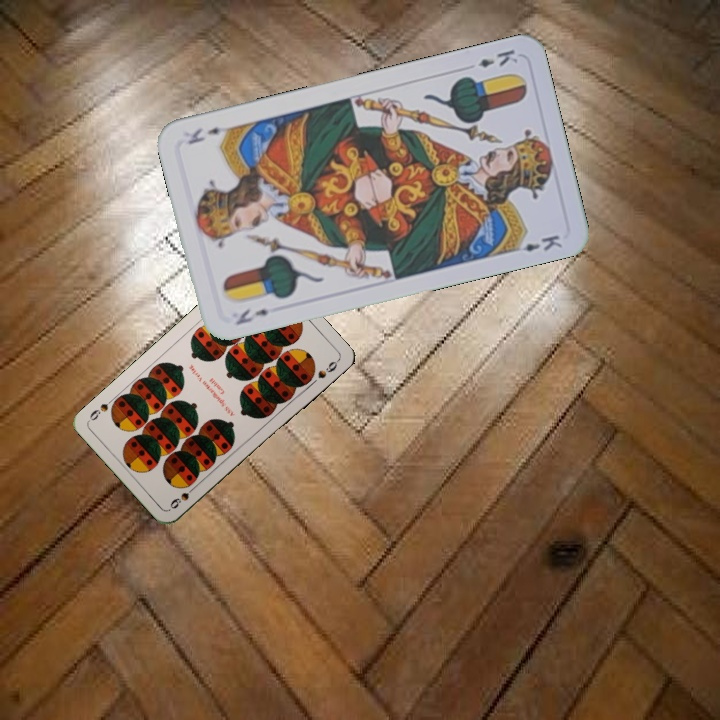EK: (474, 45, 521, 70), (231, 304, 272, 328)
S9: (166, 481, 200, 511)
